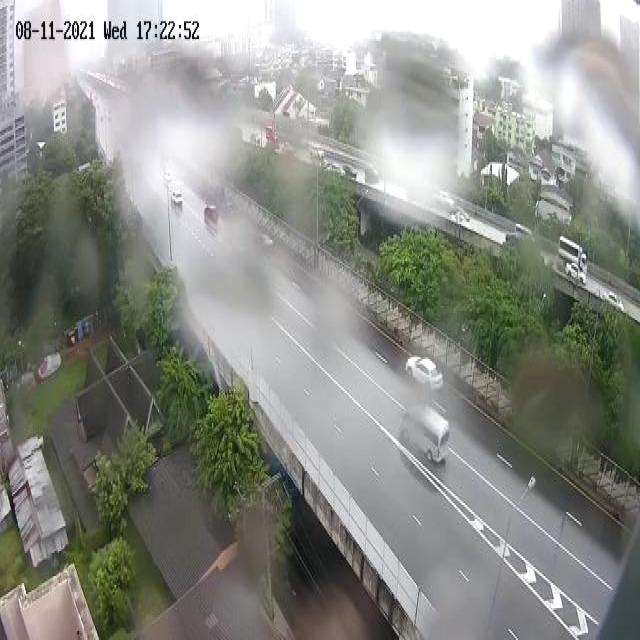Car: (401, 345, 451, 393), (360, 156, 390, 192), (603, 291, 631, 317), (202, 196, 222, 232), (509, 220, 535, 247), (564, 262, 589, 290), (306, 142, 329, 170), (170, 189, 188, 216), (249, 129, 262, 153)
Truck: (556, 236, 592, 268), (263, 112, 281, 155)
Van: (387, 406, 452, 461)
